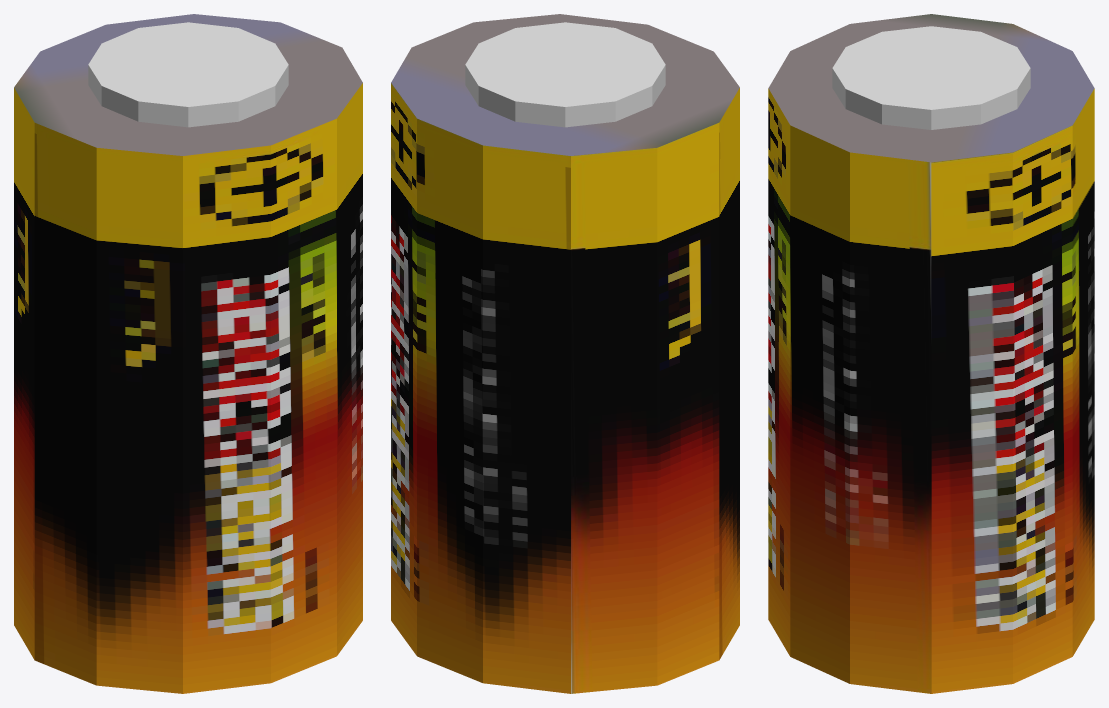
The model's file is battery.fbx.
The picture shows the model from 3 angles, left to right: view 1: azimuth 30°, elevation 25°; view 2: azimuth 150°, elevation 25°; view 3: azimuth 270°, elevation 25°; orthographic projection.
Parts seen in each view (by area): view 1: Cylinder, Cylinder.001; view 2: Cylinder, Cylinder.001; view 3: Cylinder, Cylinder.001.
Part boxes in pixels (x1=…): Cylinder: x1=14, y1=14, x2=362, y2=693; Cylinder.001: x1=88, y1=22, x2=288, y2=127; Cylinder: x1=391, y1=14, x2=739, y2=693; Cylinder.001: x1=465, y1=22, x2=665, y2=127; Cylinder: x1=768, y1=14, x2=1094, y2=693; Cylinder.001: x1=832, y1=26, x2=1030, y2=129.
Bounding box in the file's own units: 64.96 × 113 × 60.33.
2 materials, 1 textured.
